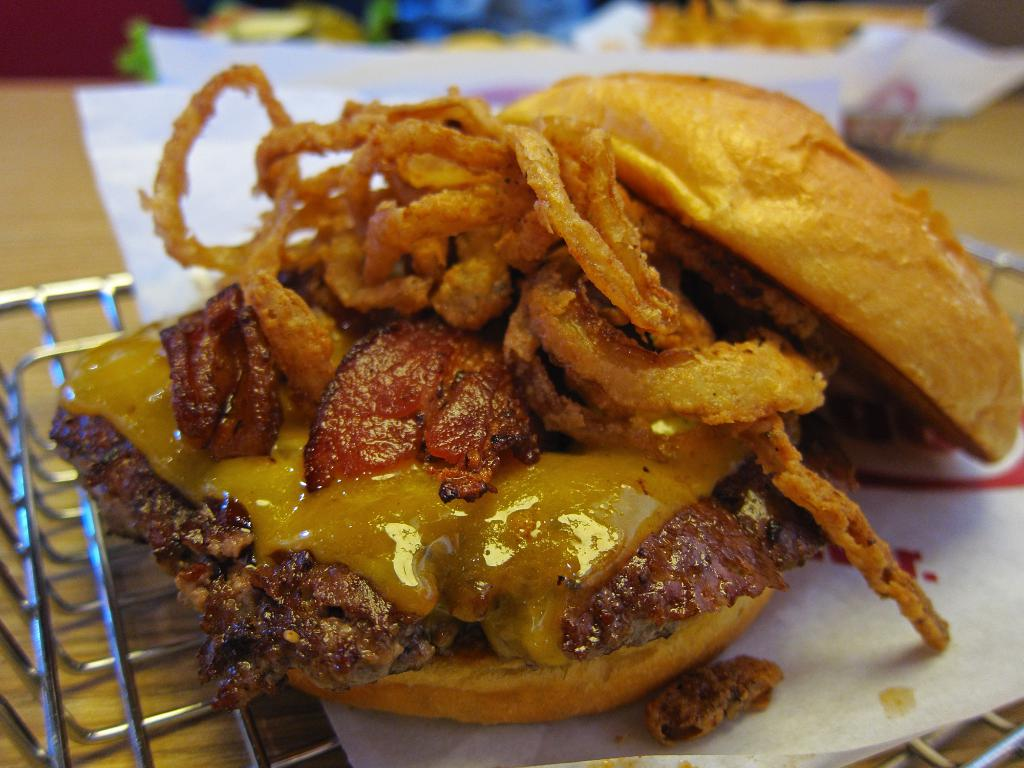French fries: (155, 113, 970, 740)
